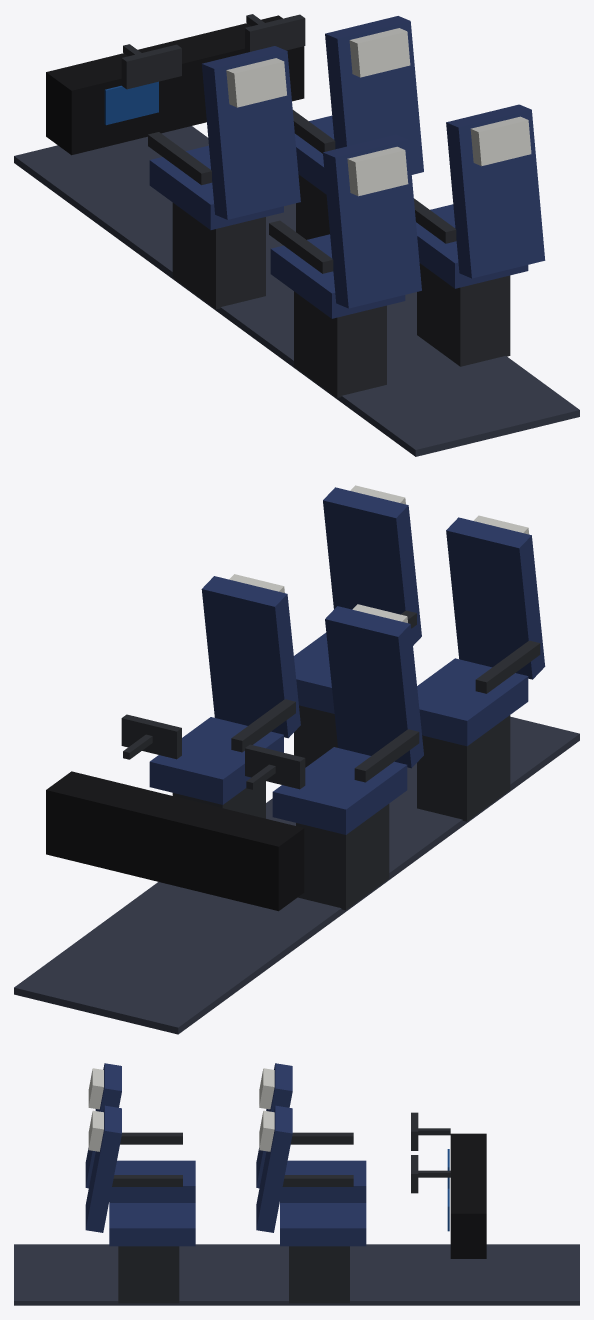
The model's file is lat_light_cabin.dae.
The picture shows the model from 3 angles, top to bottom: view 1: azimuth 30°, elevation 25°; view 2: azimuth 150°, elevation 25°; view 3: azimuth 270°, elevation 25°; orthographic projection. The views are drawn at different scales.
Parts seen in each view (by area): view 1: lat_light_cabin64; view 2: lat_light_cabin64; view 3: lat_light_cabin64.
Boxes of the visible parts, x1,y1,x2,y2 form: lat_light_cabin64: (14, 14, 579, 456); lat_light_cabin64: (14, 485, 579, 1034); lat_light_cabin64: (14, 1063, 579, 1305).
Bounding box in the file's own units: 1.05 × 3.15 × 1.11.
